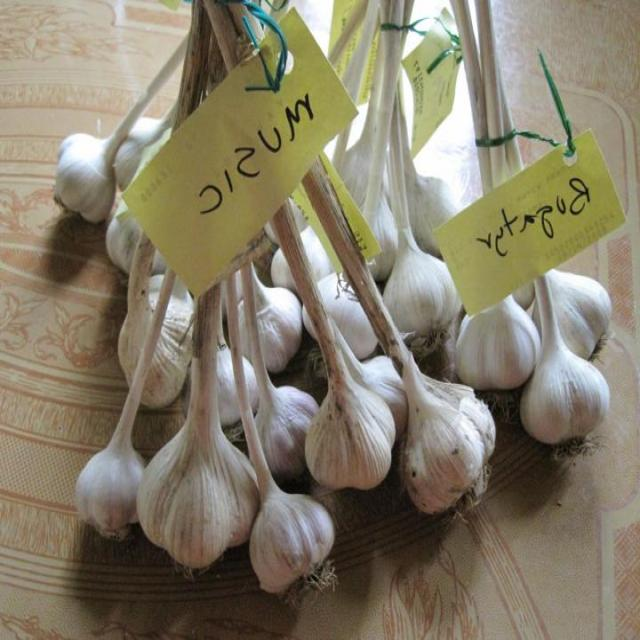Garlic: (118, 393, 244, 599), (339, 209, 467, 411), (379, 338, 513, 521), (506, 286, 614, 466), (219, 326, 341, 476), (307, 340, 406, 516), (243, 461, 345, 616), (67, 377, 157, 551), (453, 251, 563, 381), (218, 235, 326, 358)
